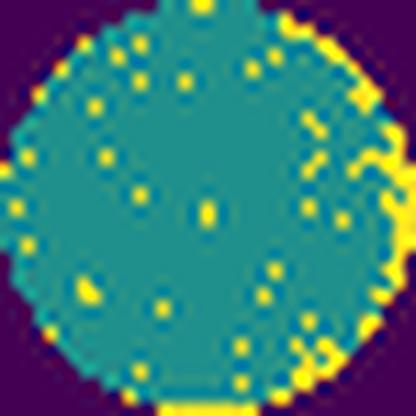Edge-Loc: (340, 114, 415, 306), (278, 11, 384, 110), (271, 330, 348, 413), (149, 394, 261, 416)
